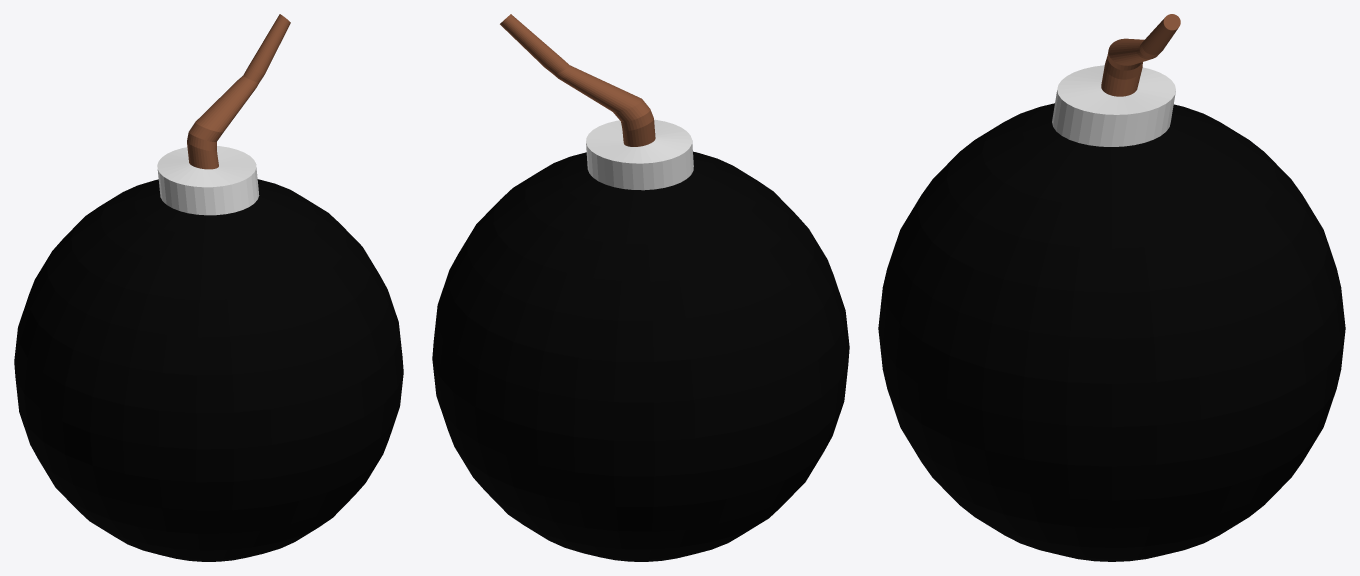
3 views of the same model, side by side, from view 1: azimuth 30°, elevation 25°; view 2: azimuth 150°, elevation 25°; view 3: azimuth 270°, elevation 25° (orthographic). The views are drawn at different scales.
Visible parts, largest first — view 1: 球.010; view 2: 球.010; view 3: 球.010.
Boxes of the visible parts, x1,y1,x2,y2 form: 球.010: [14, 14, 403, 561]; 球.010: [432, 14, 849, 561]; 球.010: [878, 14, 1345, 561].
Bounding box in the file's own units: 200 × 275 × 200.
